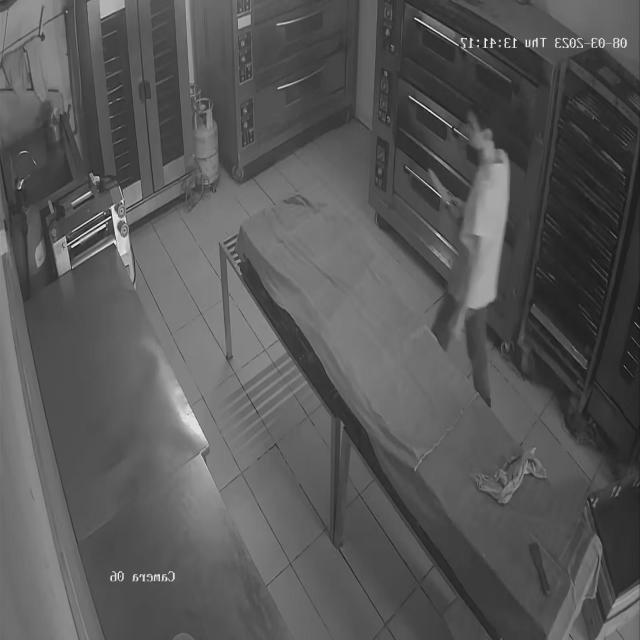Knife: (407, 147, 465, 216)
